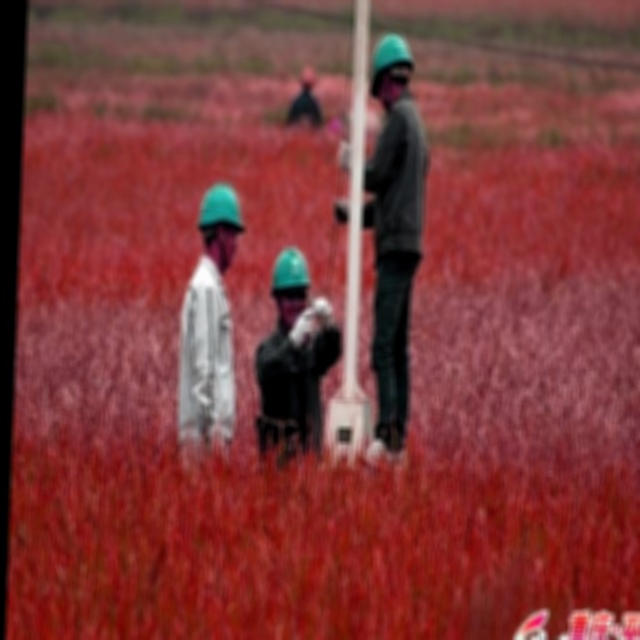Sin_Chaleco: (177, 261, 242, 439), (373, 99, 432, 256)
